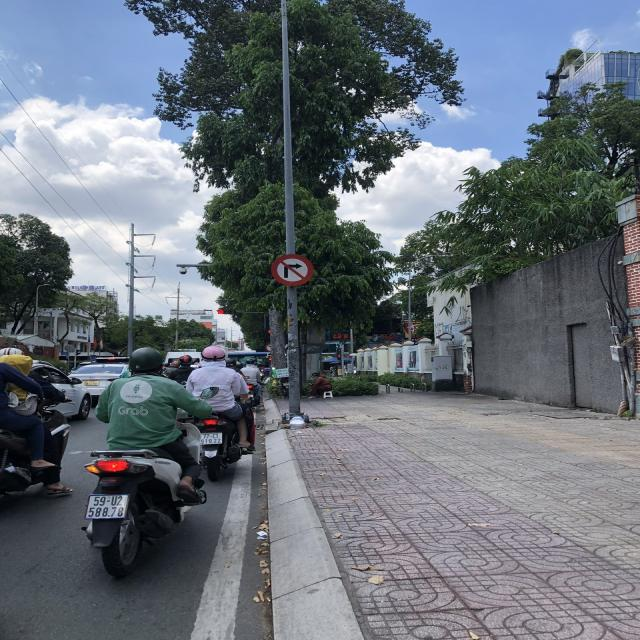Bien bao cam re phai: (270, 250, 314, 286)
